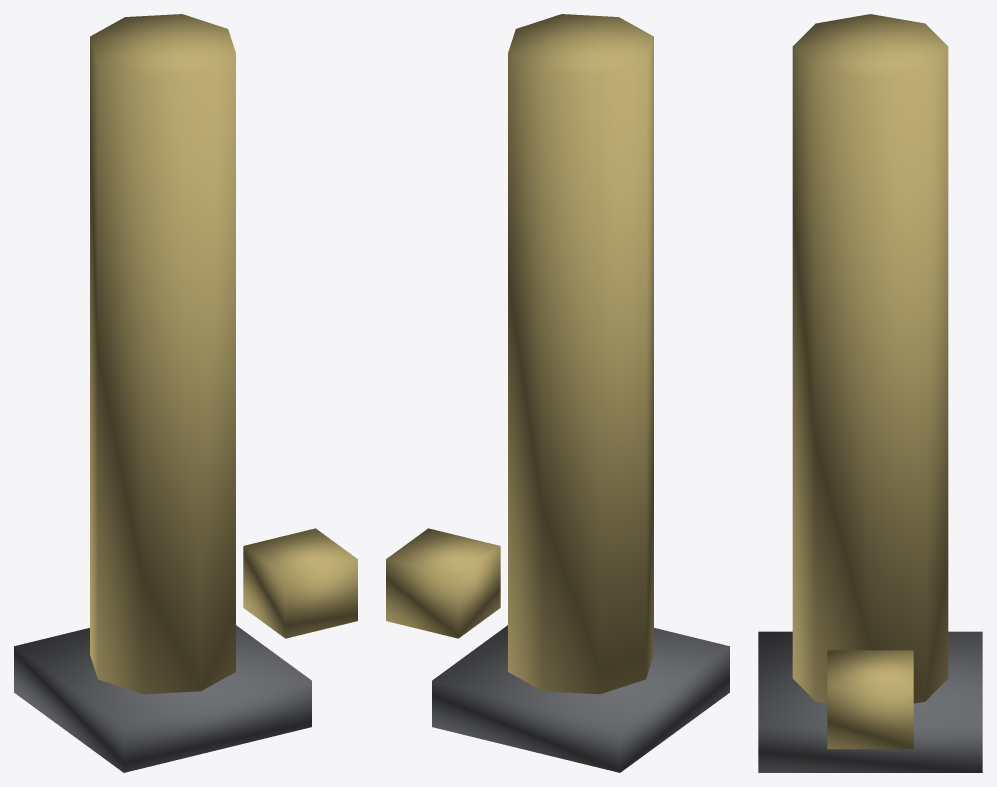
File: bollard_14.glb
3 views of the same model, side by side, from view 1: azimuth 30°, elevation 25°; view 2: azimuth 150°, elevation 25°; view 3: azimuth 270°, elevation 25° (orthographic). The views are drawn at different scales.
Parts seen in each view (by area): view 1: world; view 2: world; view 3: world.
Part boxes in pixels (<box>): world: <box>14,14,357,772</box>; world: <box>386,14,729,772</box>; world: <box>758,14,982,772</box>.
Bounding box in the file's own units: 0.3552 × 0.8428 × 0.2522.
